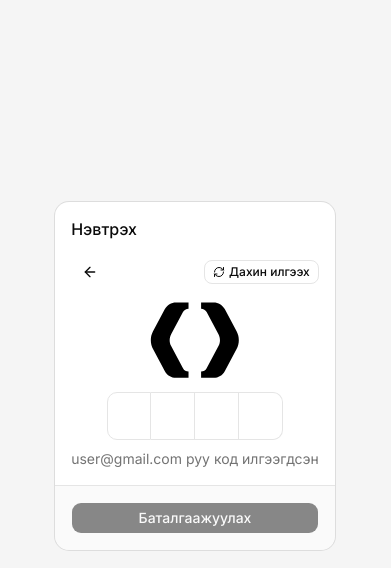
Scenario: otp баталгаажуулах хуудас › буруу otp оруулбал алдааны зурвас харагдана
Type "9999" into the field with id "otp-verification" at (195, 416), box [71, 392, 319, 440]
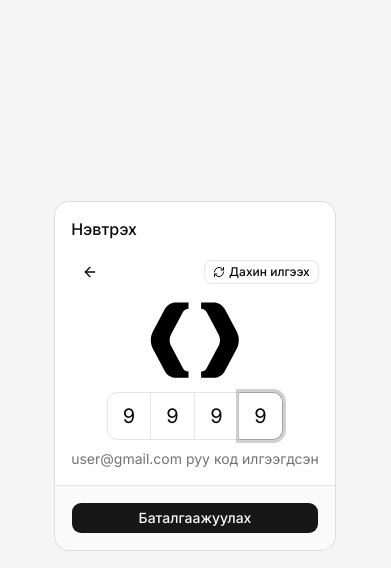
Click the button "Баталгаажуулах" at (195, 518), box [71, 502, 319, 534]
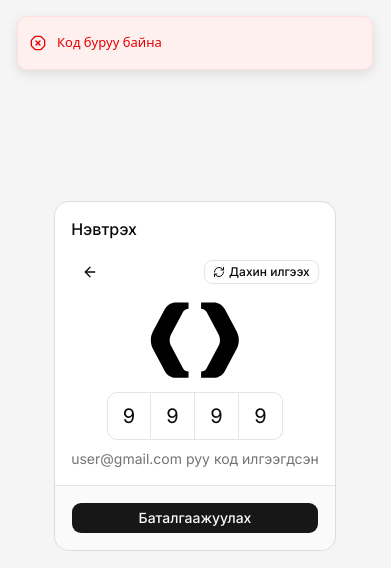
Now the list item "Код буруу байна" is shown, box [17, 16, 373, 70]
